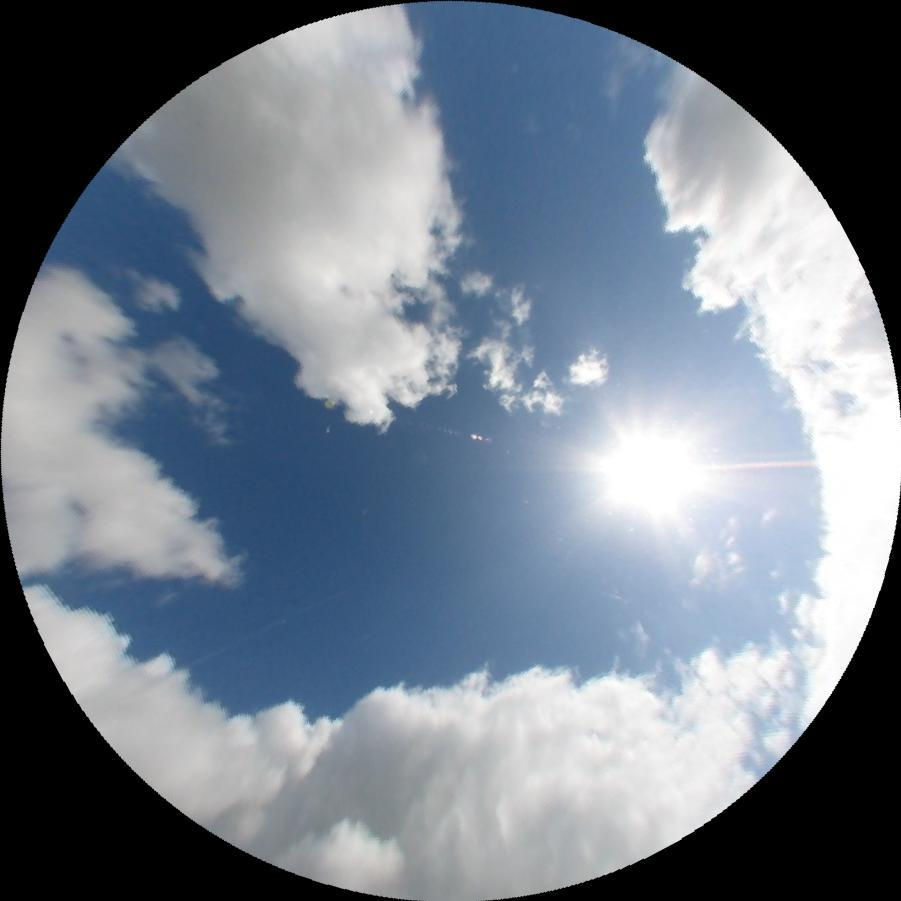contrail young: (597, 588, 622, 600)
parasite: (700, 459, 817, 470)
sun: (588, 408, 713, 532)
